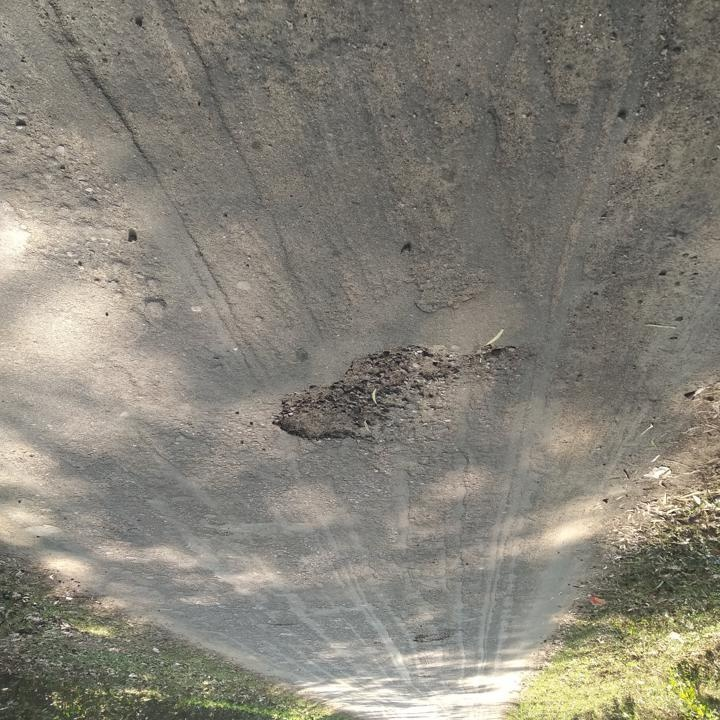pothole: (267, 344, 457, 446), (409, 630, 450, 648)
